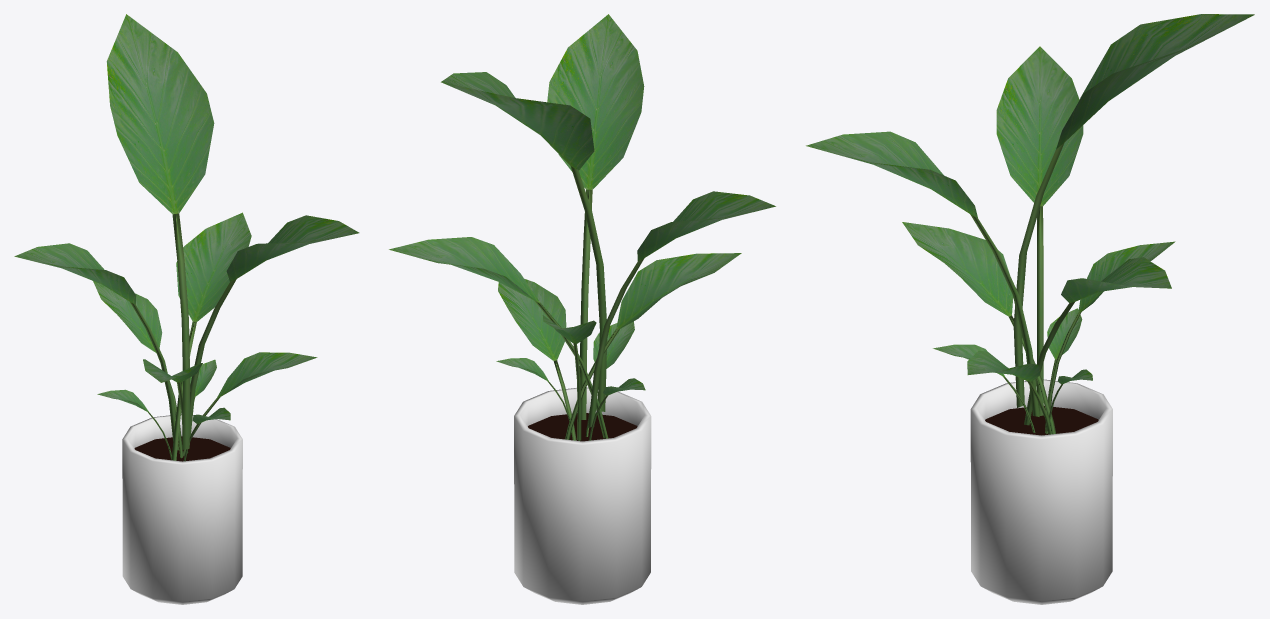
Rendered from potted-plant-mediterranean.fbx.
The picture shows the model from 3 angles, left to right: view 1: azimuth 30°, elevation 25°; view 2: azimuth 150°, elevation 25°; view 3: azimuth 270°, elevation 25°; orthographic projection. The views are drawn at different scales.
Parts seen in each view (by area): view 1: Circle, Cube.002; view 2: Circle, Cube.002; view 3: Circle, Cube.002.
Part boxes in pixels (box(x1,y1,x2,y2)): Circle: box(14, 14, 359, 461); Cube.002: box(122, 414, 242, 604); Circle: box(389, 14, 775, 441); Cube.002: box(514, 387, 651, 604); Circle: box(806, 14, 1254, 435); Cube.002: box(970, 379, 1112, 604).
Size of the model in its own units: 569 by 948 by 660.
